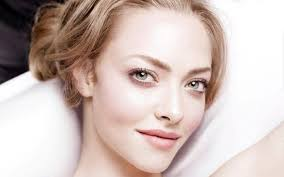white_female: (87, 22, 212, 166)
